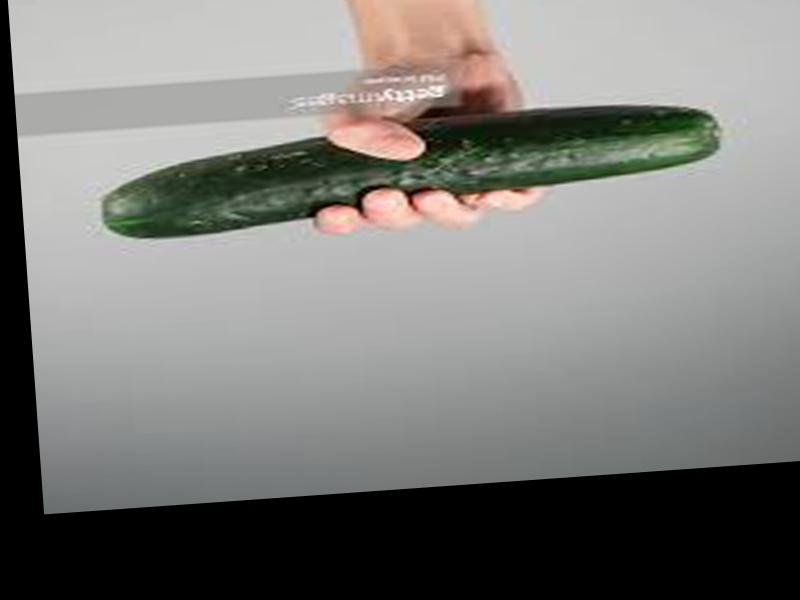Cucumber: (97, 98, 714, 243)
